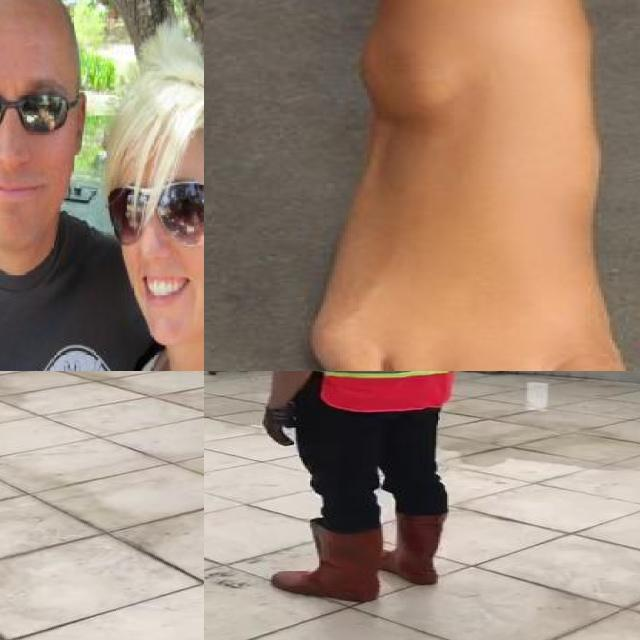Barefoots: (311, 19, 640, 371)
boots: (271, 522, 381, 604), (381, 509, 442, 585)
face_nomask: (117, 185, 204, 311), (0, 77, 80, 212)
glasses: (100, 176, 204, 247), (0, 77, 87, 140)
hand_glove: (258, 405, 298, 447)
head_nohelmet: (107, 58, 204, 161), (0, 0, 79, 30)
person: (247, 371, 489, 606), (0, 0, 145, 371), (76, 29, 204, 371)
vest: (315, 371, 478, 411)
